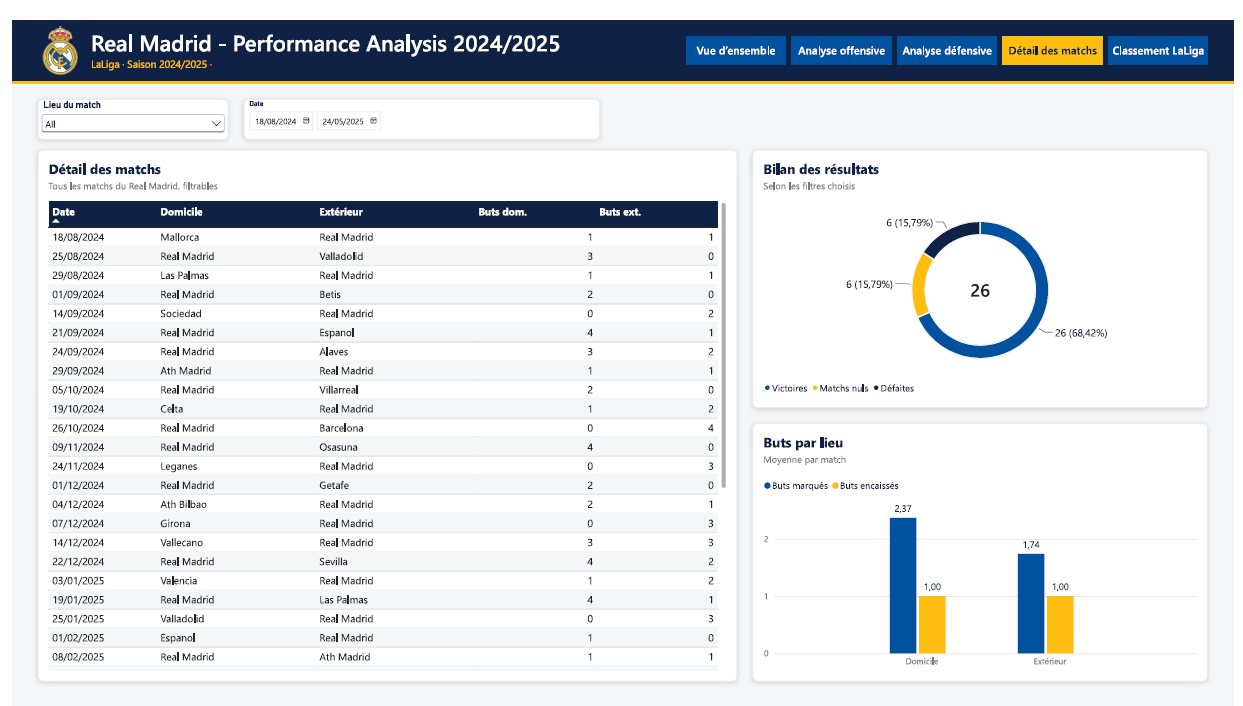

What the dashboard file says about the page in this screenshot:
{"tool":"powerbi","page":{"name":"Détail des matchs","canvas":[1920,1080],"ordinal":3},"visuals":[{"type":"shape","box":[0,0,1920,96],"z":0},{"type":"shape","box":[0,96,1920,4],"z":1},{"type":"textbox","box":[124,12,920,48],"z":2},{"type":"textbox","box":[124,58,920,30],"z":3},{"type":"image","box":[36,8,80,80],"z":4},{"type":"shape","box":[1060,26,156,44],"z":11},{"type":"shape","box":[1226,26,156,44],"z":12},{"type":"shape","box":[1392,26,156,44],"z":13},{"type":"shape","box":[1558,26,156,44],"z":14},{"type":"shape","box":[1724,26,156,44],"z":15},{"type":"textbox","box":[1060,35,156,35],"z":21},{"type":"textbox","box":[1226,35,156,35],"z":22},{"type":"textbox","box":[1392,35,156,35],"z":23},{"type":"textbox","box":[1558,35,156,35],"z":24},{"type":"textbox","box":[1724,35,156,35],"z":25},{"type":"actionButton","box":[1060,26,156,44],"z":31},{"type":"actionButton","box":[1226,26,156,44],"z":32},{"type":"actionButton","box":[1392,26,156,44],"z":33},{"type":"actionButton","box":[1558,26,156,44],"z":34},{"type":"actionButton","box":[1724,26,156,44],"z":35},{"type":"slicer","fields":{"Values":["Real_Madrid_2024_2025.Lieu du match"]},"box":[40,124,300,64],"z":60},{"type":"slicer","fields":{"Values":["Real_Madrid_2024_2025.Date"]},"box":[364,124,560,64],"z":61},{"type":"tableEx","title":"Détail des matchs","fields":{"Values":["Real_Madrid_2024_2025.Date","Real_Madrid_2024_2025.HomeTeam","Real_Madrid_2024_2025.AwayTeam","Real_Madrid_2024_2025.FTHG","Real_Madrid_2024_2025.FTAG"]},"box":[40,204,1100,836],"z":200},{"type":"donutChart","title":"Bilan des résultats","fields":{"Y":["Real_Madrid_2024_2025.Victoires","Real_Madrid_2024_2025.Matchs nuls","Real_Madrid_2024_2025.Défaites"]},"box":[1164,204,716,406],"z":201},{"type":"clusteredColumnChart","title":"Buts par lieu","fields":{"Category":["Real_Madrid_2024_2025.Lieu du match"],"Y":["Average(Real_Madrid_2024_2025.Buts par match)","Average(Real_Madrid_2024_2025.Encaissés par match)"]},"box":[1164,634,716,406],"z":202}]}

Visuals, with their boxes in screenshot pixels (x1, y1, x2, y2), scaled from the page's 1920x1080 canvas onto the 1243x706 screenshot:
shape: pyautogui.locateOnScreen(0, 0, 1242, 63)
shape: pyautogui.locateOnScreen(0, 63, 1242, 65)
textbox: pyautogui.locateOnScreen(80, 8, 676, 39)
textbox: pyautogui.locateOnScreen(80, 38, 676, 58)
image: pyautogui.locateOnScreen(23, 5, 75, 58)
shape: pyautogui.locateOnScreen(686, 17, 787, 46)
shape: pyautogui.locateOnScreen(794, 17, 895, 46)
shape: pyautogui.locateOnScreen(901, 17, 1002, 46)
shape: pyautogui.locateOnScreen(1009, 17, 1110, 46)
shape: pyautogui.locateOnScreen(1116, 17, 1217, 46)
textbox: pyautogui.locateOnScreen(686, 23, 787, 46)
textbox: pyautogui.locateOnScreen(794, 23, 895, 46)
textbox: pyautogui.locateOnScreen(901, 23, 1002, 46)
textbox: pyautogui.locateOnScreen(1009, 23, 1110, 46)
textbox: pyautogui.locateOnScreen(1116, 23, 1217, 46)
actionButton: pyautogui.locateOnScreen(686, 17, 787, 46)
actionButton: pyautogui.locateOnScreen(794, 17, 895, 46)
actionButton: pyautogui.locateOnScreen(901, 17, 1002, 46)
actionButton: pyautogui.locateOnScreen(1009, 17, 1110, 46)
actionButton: pyautogui.locateOnScreen(1116, 17, 1217, 46)
slicer - Real_Madrid_2024_2025.Lieu du match: pyautogui.locateOnScreen(26, 81, 220, 123)
slicer - Real_Madrid_2024_2025.Date: pyautogui.locateOnScreen(236, 81, 598, 123)
"Détail des matchs" tableEx: pyautogui.locateOnScreen(26, 133, 738, 680)
"Bilan des résultats" donutChart: pyautogui.locateOnScreen(754, 133, 1217, 399)
"Buts par lieu" clusteredColumnChart: pyautogui.locateOnScreen(754, 414, 1217, 680)
